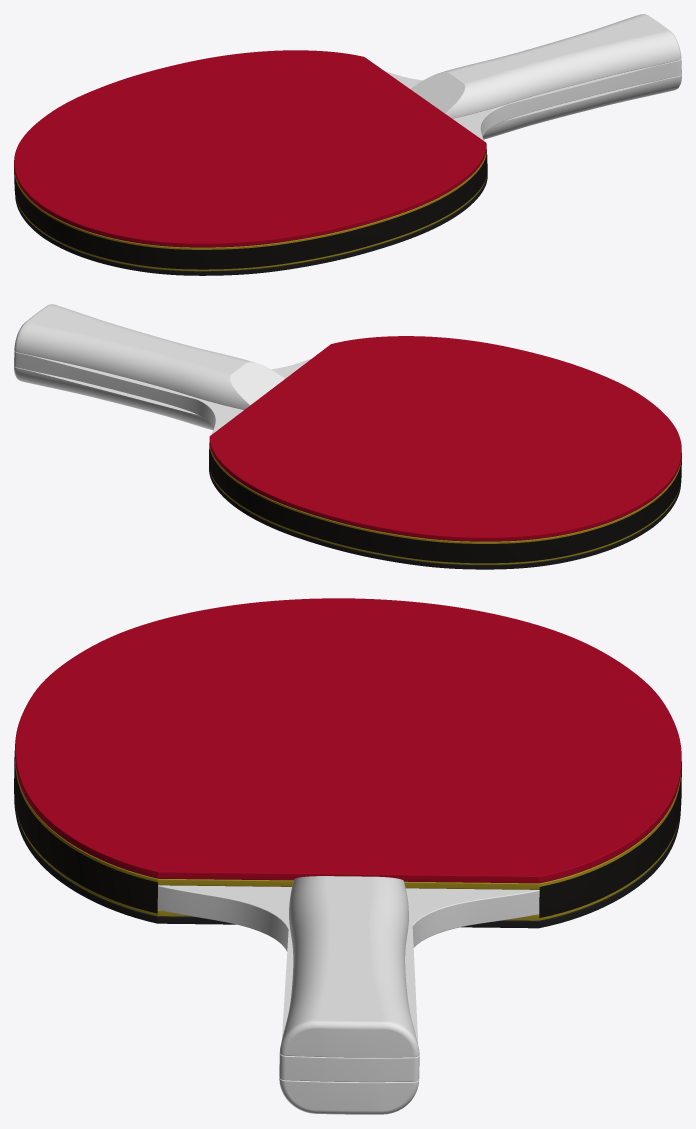
The model's file is Table Tennis Racket .fbx.
3 views of the same model, one above another, from view 1: azimuth 30°, elevation 25°; view 2: azimuth 150°, elevation 25°; view 3: azimuth 270°, elevation 25° (orthographic). The views are drawn at different scales.
Parts seen in each view (by area): view 1: Racket; view 2: Racket; view 3: Racket.
Part boxes in pixels (x1,y1,x2,y2): Racket: (14, 14, 681, 275); Racket: (14, 304, 681, 569); Racket: (14, 598, 681, 1114).
Bounding box in the file's own units: 25.33 × 2.53 × 15.02.
